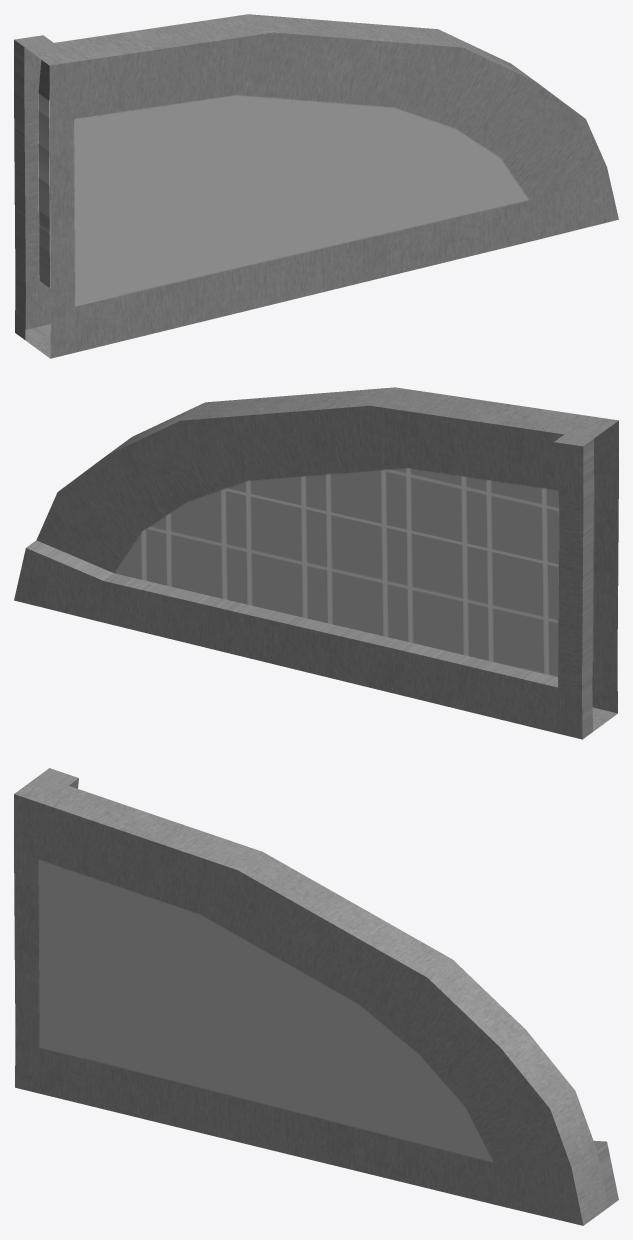
File: MallCeilingRightEnd_FIXED (1).fbx
The picture shows the model from 3 angles, top to bottom: view 1: azimuth 30°, elevation 25°; view 2: azimuth 150°, elevation 25°; view 3: azimuth 330°, elevation 25°; orthographic projection.
Parts seen in each view (by area): view 1: polySurface8; view 2: polySurface8; view 3: polySurface8.
Part boxes in pixels (box(x1,y1,x2,y2)): polySurface8: box(14, 14, 618, 358); polySurface8: box(14, 387, 618, 739); polySurface8: box(14, 768, 618, 1225).
Size of the model in its own units: 9.59 by 4.72 by 1.04.
1 material, 1 textured.
